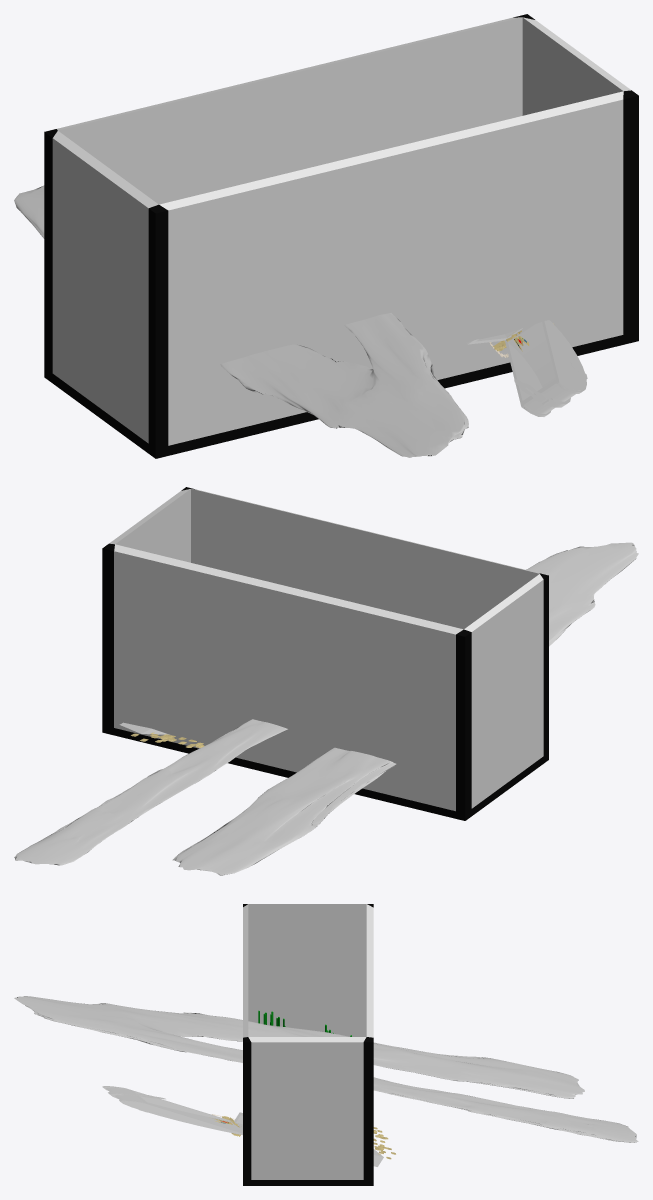
File: fishtank.fbx
3 renders of one model, top to bottom at view 1: azimuth 30°, elevation 25°; view 2: azimuth 150°, elevation 25°; view 3: azimuth 270°, elevation 25°, orthographic. The views are drawn at different scales.
Visible parts, largest first — view 1: tank, Arch Small, halkalar; view 2: tank, Arch Small; view 3: tank, Arch Small, halkalar.
Boxes of the visible parts, x1,y1,x2,y2 form: tank: (44,14,638,458); Arch Small: (14,185,468,457); halkalar: (466,320,587,416); tank: (102,487,548,820); Arch Small: (14,542,638,875); tank: (243,904,373,1185); Arch Small: (14,996,638,1142); halkalar: (102,1086,383,1166).
Bounding box in the file's own units: 1000 × 495 × 1912.
